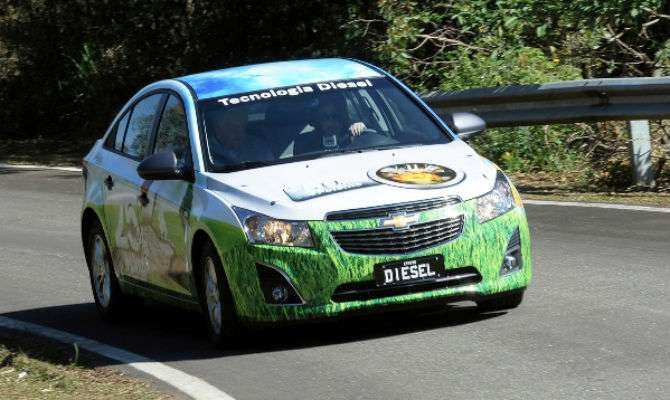Carro: (74, 56, 544, 341)
